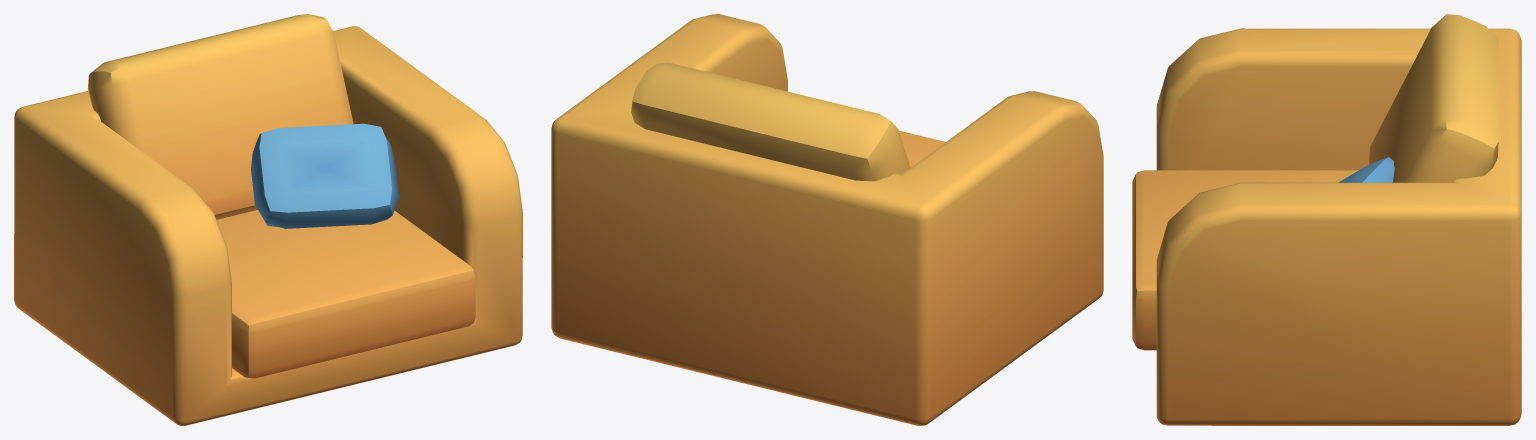
File: fur-armchair-pillows.glb
The picture shows the model from 3 angles, left to right: view 1: azimuth 30°, elevation 25°; view 2: azimuth 150°, elevation 25°; view 3: azimuth 270°, elevation 25°; orthographic projection. The views are drawn at different scales.
Visible parts, largest first — view 1: armchair_pillows; view 2: armchair_pillows; view 3: armchair_pillows.
Part boxes in pixels (left/top/right/bottom): armchair_pillows: left=14, top=14, right=522, bottom=425; armchair_pillows: left=551, top=14, right=1103, bottom=425; armchair_pillows: left=1132, top=14, right=1521, bottom=425.
Bounding box in the file's own units: 1.8 × 1.22 × 1.6.
1 material, 1 textured.
